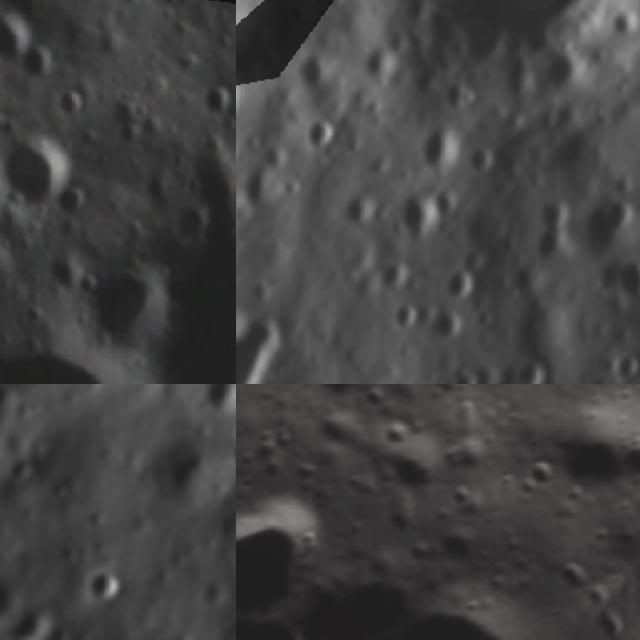crater: (317, 0, 640, 130), (236, 473, 367, 640), (533, 407, 638, 512), (373, 428, 454, 509), (0, 129, 77, 205), (383, 188, 452, 262), (407, 116, 471, 188), (418, 515, 486, 581), (236, 299, 290, 378), (70, 558, 130, 618), (522, 220, 579, 278), (513, 443, 568, 500), (530, 47, 584, 105), (288, 110, 342, 167), (598, 244, 640, 313), (183, 384, 236, 437), (282, 50, 336, 102), (294, 384, 374, 419), (421, 308, 472, 361), (330, 183, 379, 234), (607, 426, 640, 498), (459, 135, 505, 186), (530, 191, 577, 237), (595, 194, 640, 242), (436, 266, 482, 312), (210, 416, 236, 490), (383, 298, 426, 342), (0, 14, 35, 63), (505, 351, 556, 384), (52, 179, 91, 219), (18, 45, 57, 85), (602, 343, 640, 384), (200, 84, 235, 120), (55, 88, 89, 121), (624, 175, 640, 232), (74, 272, 104, 298), (20, 302, 46, 327)
